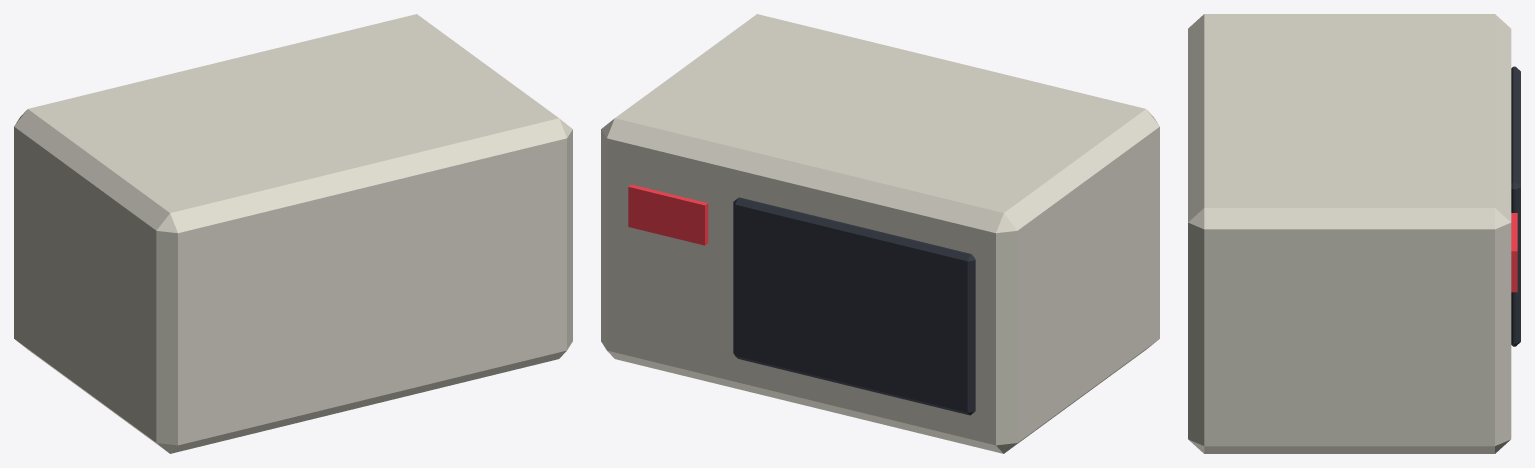
Rendered from prop_microwave.obj.
3 renders of one model, left to right at view 1: azimuth 30°, elevation 25°; view 2: azimuth 150°, elevation 25°; view 3: azimuth 270°, elevation 25°, orthographic. The views are drawn at different scales.
Visible parts, largest first — view 1: Body; view 2: Body, Window, Clock; view 3: Body, Window, Clock.
Part boxes in pixels (x1,y1,x2,y2): Body: (14, 14, 572, 453); Body: (601, 14, 1159, 453); Window: (733, 197, 975, 415); Clock: (628, 184, 708, 245); Body: (1188, 14, 1511, 453); Window: (1511, 66, 1520, 346); Clock: (1511, 213, 1517, 292).
Bounding box in the file's own units: 0.76 × 0.42 × 0.515.
